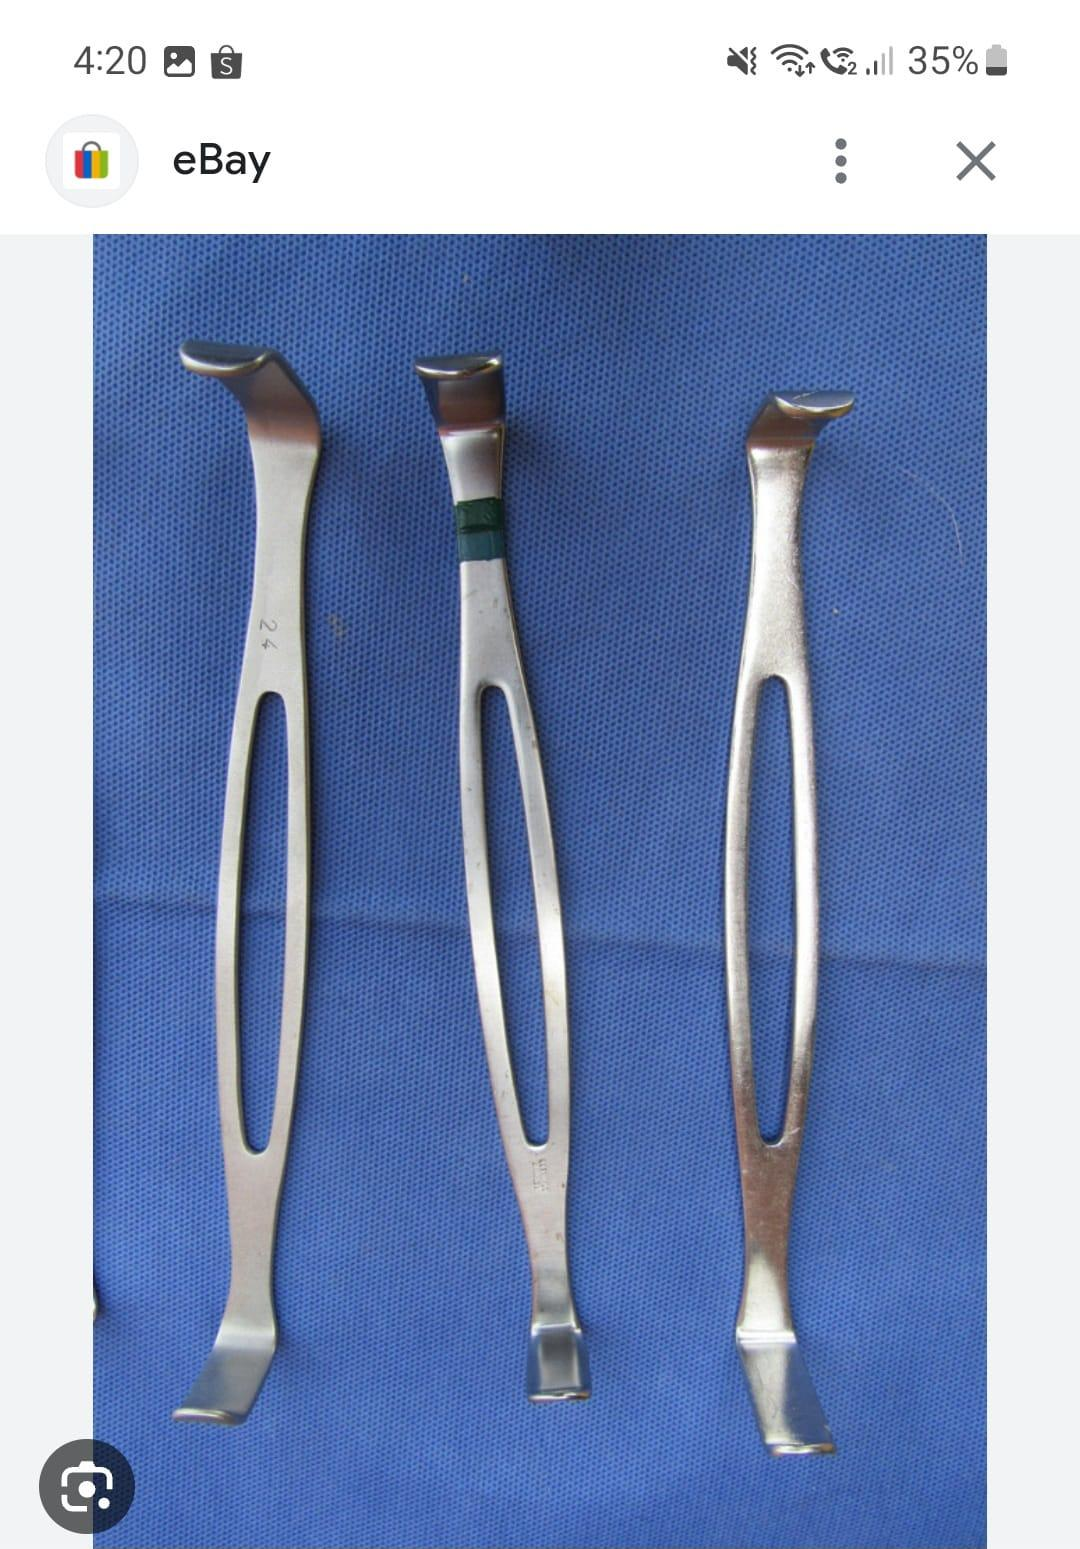Army Navy Retractor: (135, 318, 373, 1443), (685, 350, 915, 1502), (400, 347, 633, 1410)
